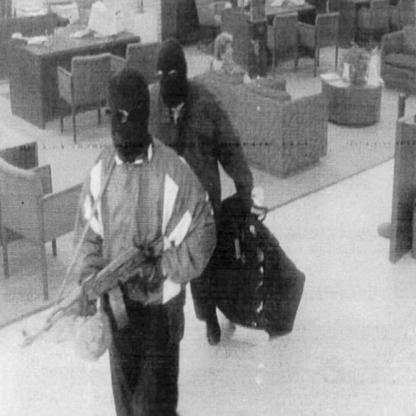al: (19, 241, 174, 359)
